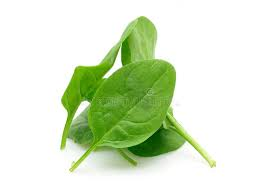spinach: (73, 30, 182, 161)
